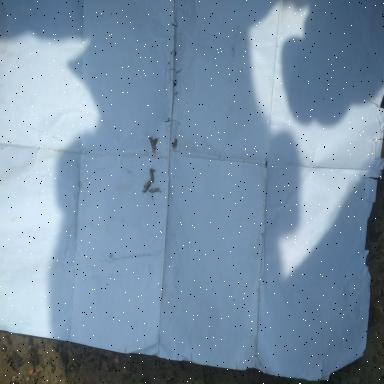pbw: (148, 169, 156, 185), (142, 180, 150, 194), (148, 188, 160, 193)
